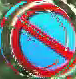No waiting: (10, 3, 75, 76)
